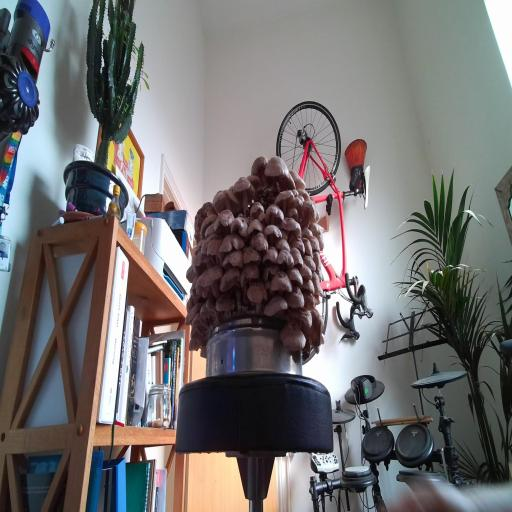Shiitake Mushroom: (273, 312, 314, 364), (256, 148, 296, 196), (223, 171, 264, 215), (240, 272, 276, 315), (185, 197, 223, 235), (275, 207, 308, 249), (246, 149, 277, 190), (210, 202, 239, 244), (212, 227, 250, 259), (269, 181, 301, 218), (304, 214, 333, 252), (199, 226, 226, 265), (282, 280, 309, 318), (187, 245, 221, 275), (273, 168, 301, 203), (214, 263, 246, 293), (194, 206, 222, 240), (233, 259, 265, 288), (196, 265, 224, 298), (180, 295, 207, 328), (283, 166, 312, 196), (261, 216, 285, 249), (194, 300, 220, 330), (201, 292, 225, 323), (243, 196, 270, 223), (296, 288, 322, 314), (257, 261, 285, 284), (289, 305, 315, 328), (294, 260, 318, 284), (270, 270, 293, 295), (213, 190, 239, 212), (245, 213, 265, 241), (264, 294, 288, 317), (299, 251, 322, 274), (288, 242, 306, 271), (310, 308, 323, 348), (243, 168, 265, 191), (230, 215, 249, 241), (180, 291, 203, 312), (284, 265, 308, 285), (309, 270, 325, 299), (272, 234, 295, 254), (181, 264, 201, 286), (303, 198, 317, 228), (188, 325, 210, 344), (283, 203, 304, 222), (275, 249, 296, 268), (222, 249, 244, 267), (266, 204, 284, 225), (301, 233, 315, 260), (261, 245, 279, 266), (189, 275, 203, 301), (242, 246, 262, 264), (250, 231, 268, 251), (216, 293, 235, 311), (200, 222, 219, 239), (294, 185, 313, 202), (186, 338, 206, 354), (311, 250, 325, 271), (300, 338, 312, 362), (192, 311, 206, 330), (291, 237, 305, 253), (301, 225, 314, 241), (256, 210, 268, 226), (310, 234, 320, 253), (303, 279, 315, 294), (313, 268, 326, 280), (293, 196, 303, 210), (297, 192, 307, 204), (200, 342, 207, 358), (264, 279, 272, 291), (281, 229, 288, 240), (320, 332, 326, 344), (293, 188, 299, 199)
